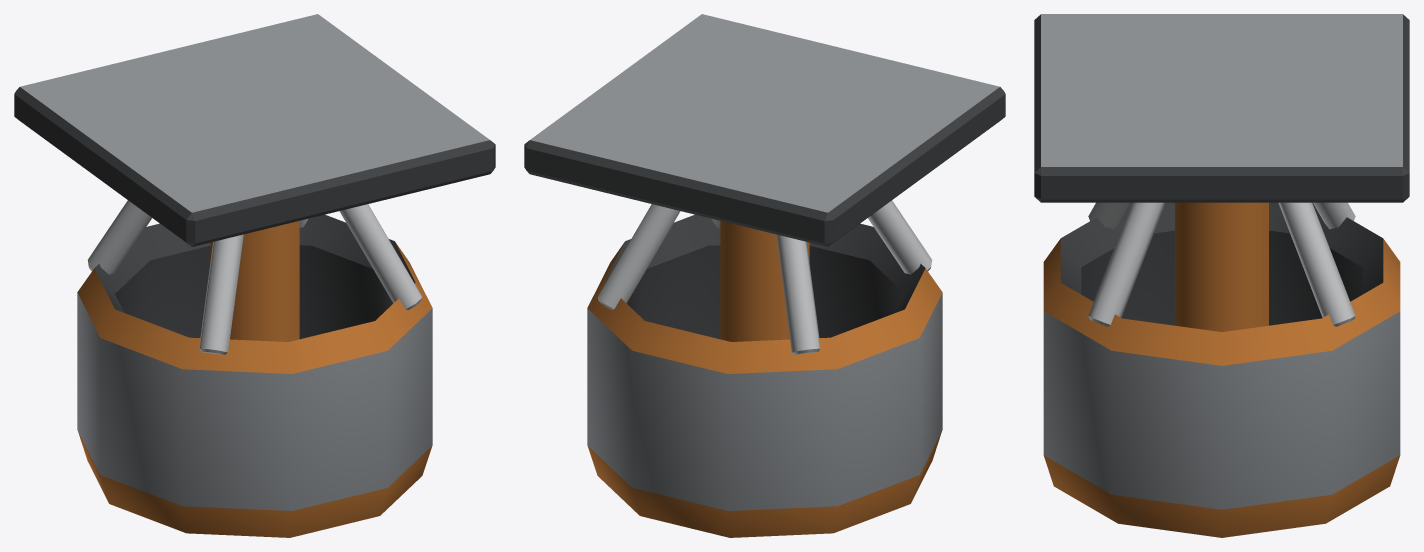
Rendered from R4M_HoverEngine_LOD1.fbx.
3 renders of one model, left to right at view 1: azimuth 30°, elevation 25°; view 2: azimuth 150°, elevation 25°; view 3: azimuth 270°, elevation 25°, orthographic. The views are drawn at different scales.
Parts seen in each view (by area): view 1: R4M_HoverEngine_LOD1; view 2: R4M_HoverEngine_LOD1; view 3: R4M_HoverEngine_LOD1.
Boxes of the visible parts, x1,y1,x2,y2 form: R4M_HoverEngine_LOD1: (14,14,495,537); R4M_HoverEngine_LOD1: (524,14,1005,537); R4M_HoverEngine_LOD1: (1034,14,1409,537).
Size of the model in its own units: 0.52 by 0.577 by 0.52.
